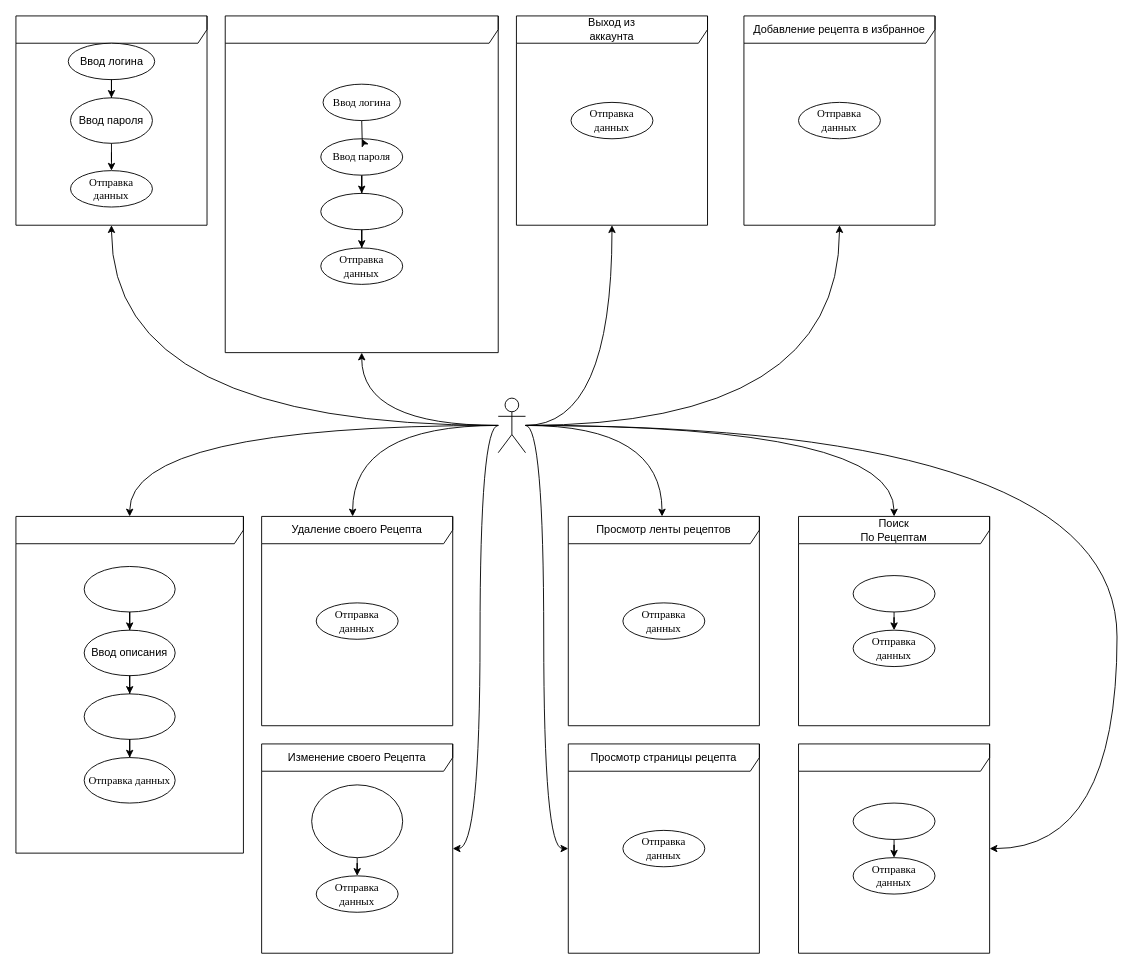
This 1133x969 diagram has some shape labels left out. The box of each missing label's shape, as (x1, y1, x2, y2) in pixels:
User: (497, 397, 526, 453)
Авторизация: (15, 15, 207, 225)
Ввод e-mail: (320, 192, 403, 230)
Ввод ингредиентов: (83, 693, 175, 739)
Ввод наименования: (83, 566, 175, 612)
Ввод поискового запроса: (852, 575, 935, 612)
Выбор способа сортировки: (852, 802, 935, 839)
Добавление Рецепта: (15, 516, 243, 853)
Изменение наименования/изображения/описания: (311, 784, 403, 858)
Регистрация: (224, 15, 498, 353)
Сортировка Рецептов: (798, 743, 990, 953)
